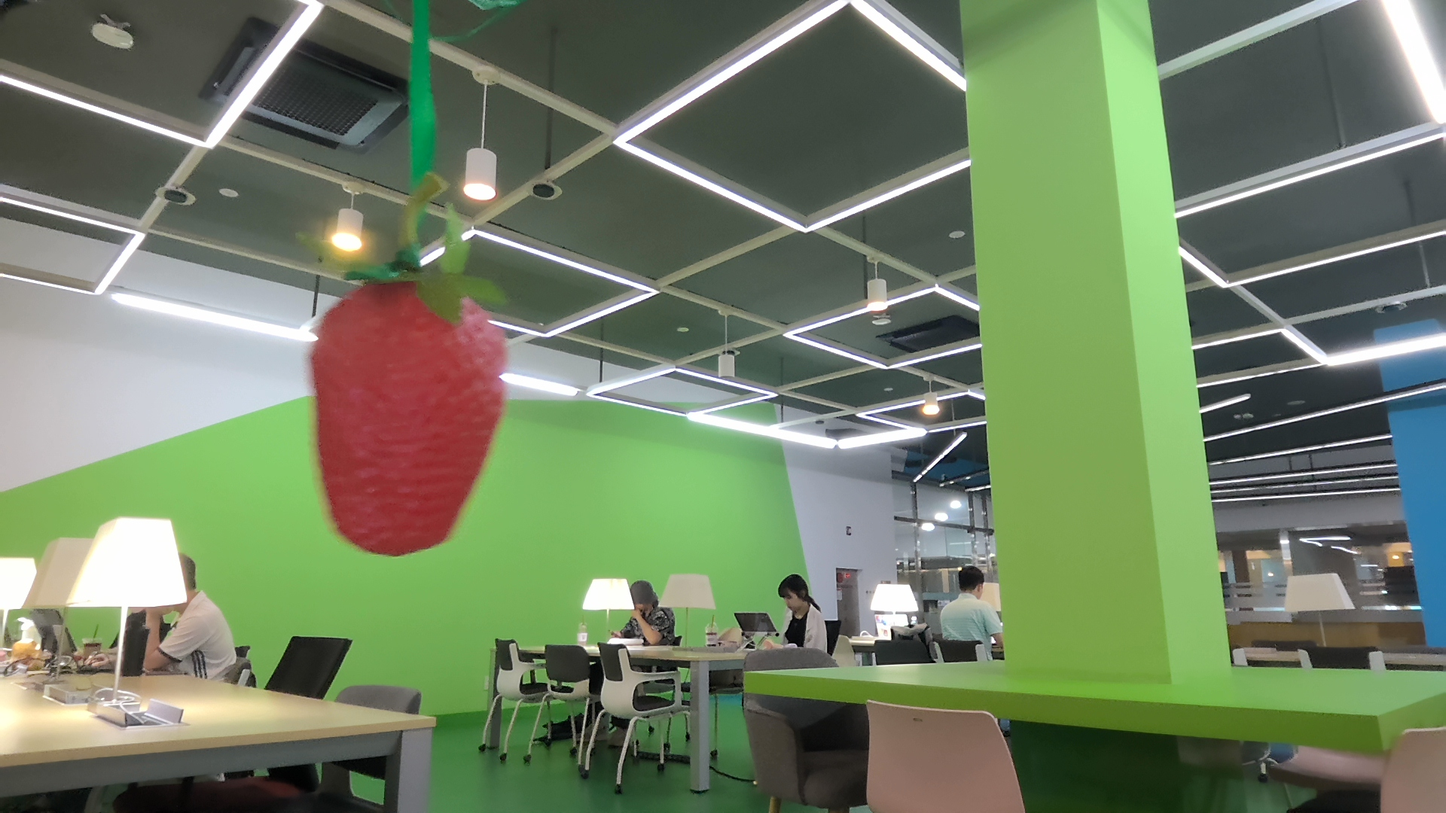strawberry: (290, 263, 526, 559)
